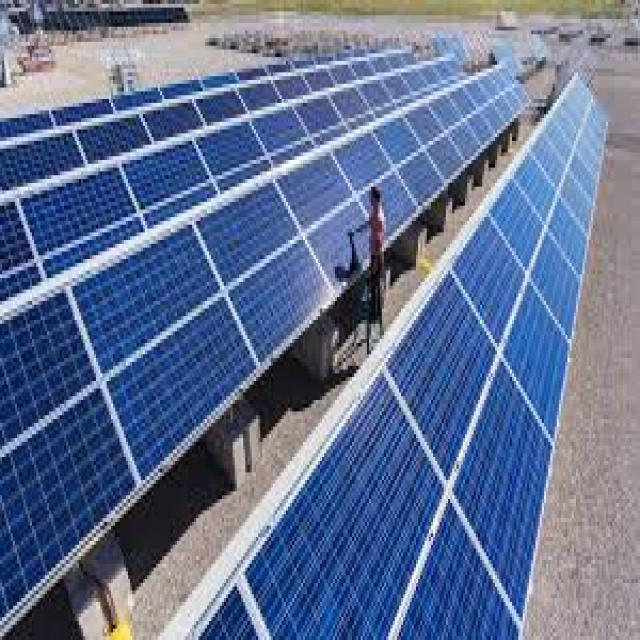clean-solar-panel: (1, 49, 525, 634), (165, 80, 605, 636)
